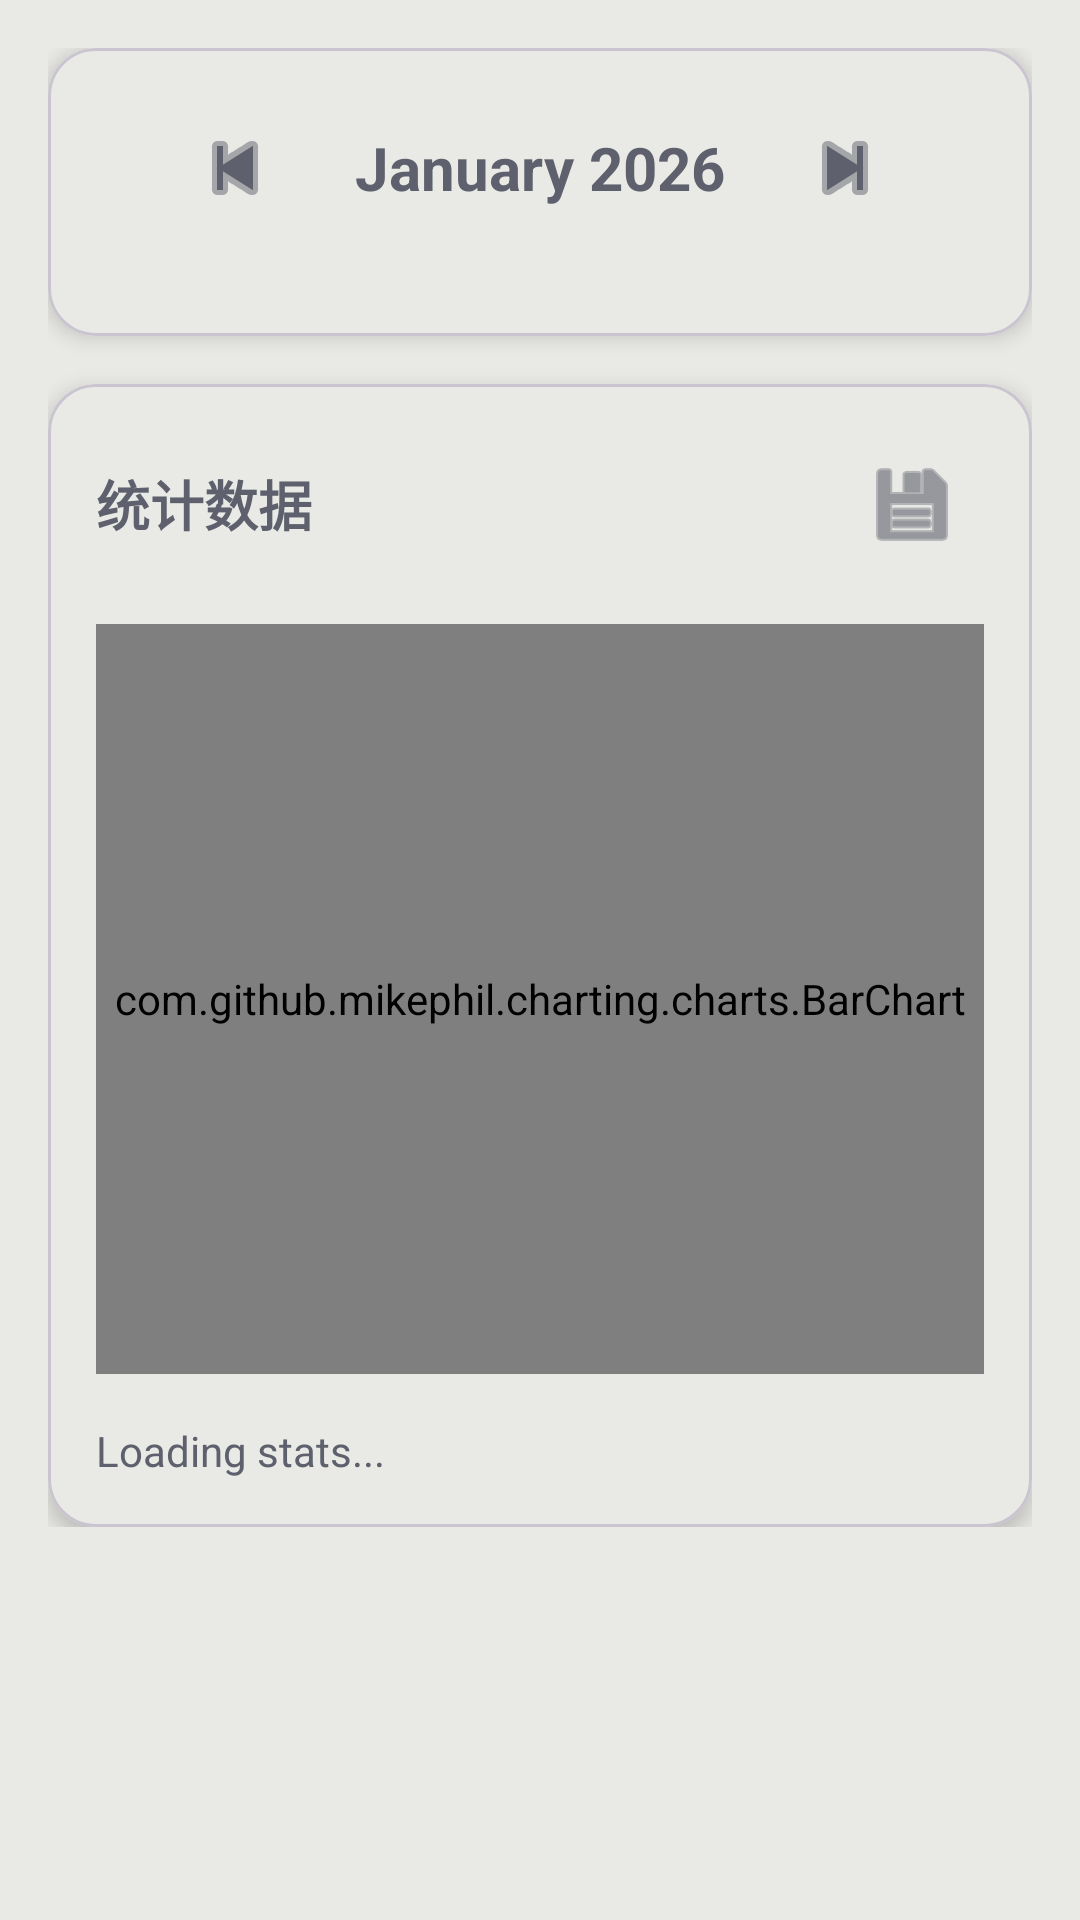

Named icons in this screenshot (1080x1920) and their centers, point (x, y):
Export Chart: point (912, 504)
next: point (845, 168)
previous: point (235, 168)
